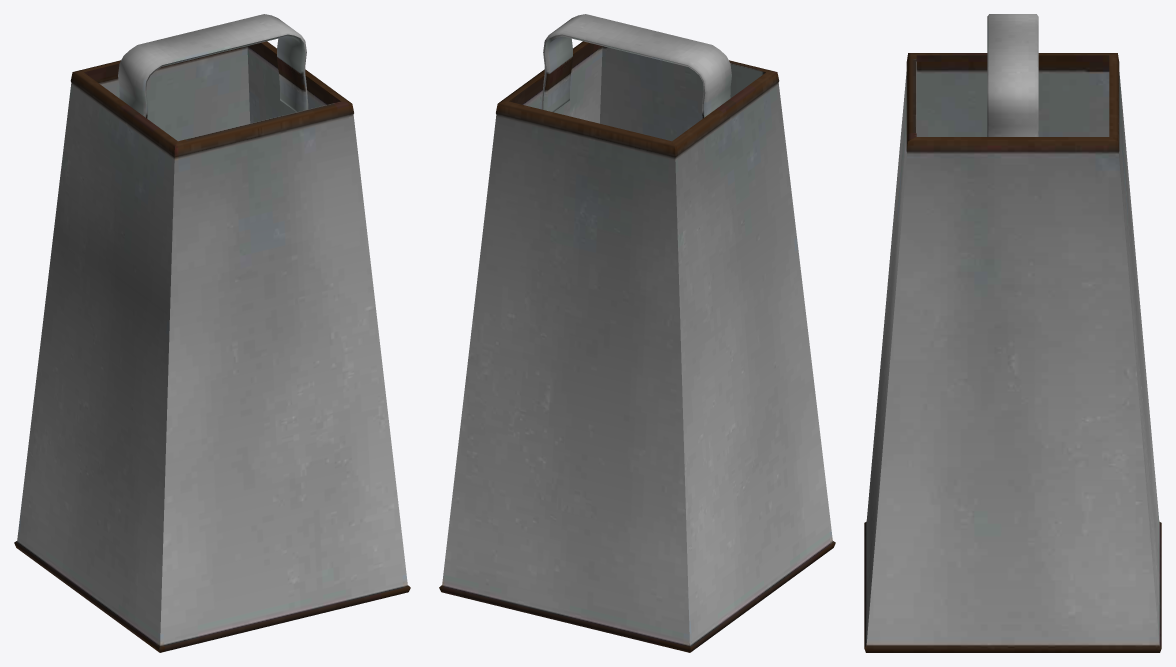
3 views of the same model, side by side, from view 1: azimuth 30°, elevation 25°; view 2: azimuth 150°, elevation 25°; view 3: azimuth 270°, elevation 25° (orthographic). The views are drawn at different scales.
Parts seen in each view (by area): view 1: SM_CheeseGrater; view 2: SM_CheeseGrater; view 3: SM_CheeseGrater.
Part boxes in pixels (x1,y1,x2,y2): SM_CheeseGrater: (14, 14, 410, 652); SM_CheeseGrater: (439, 14, 835, 652); SM_CheeseGrater: (864, 14, 1161, 652).
Bounding box in the file's own units: 17.41 × 35.16 × 17.4.
Materials: 1 (1 with a texture image).
